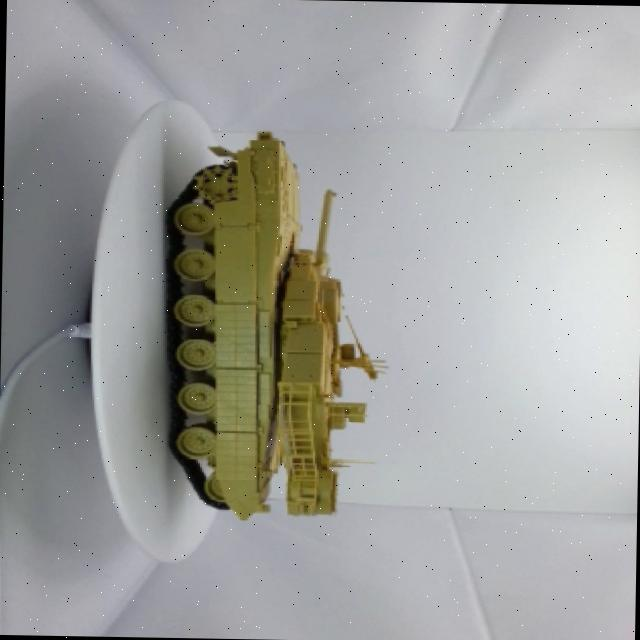korea tank: (140, 106, 399, 536)
